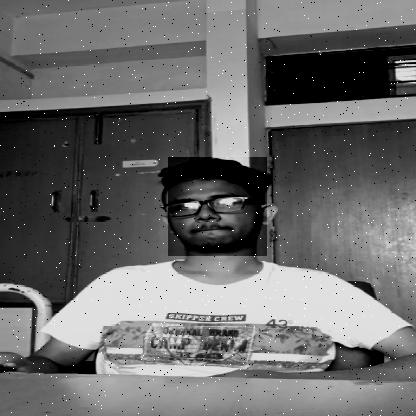Normal: (168, 157, 267, 256)
